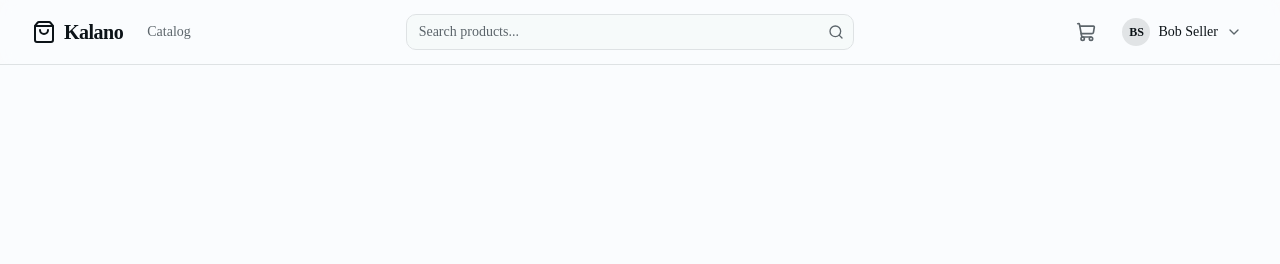
Test: Navbar › Authenticated State - Merchant › shows Seller Dashboard and Catalog links when menu is opened
Click the button "BS Bob Seller" at (1182, 32), box [1116, 12, 1248, 52]
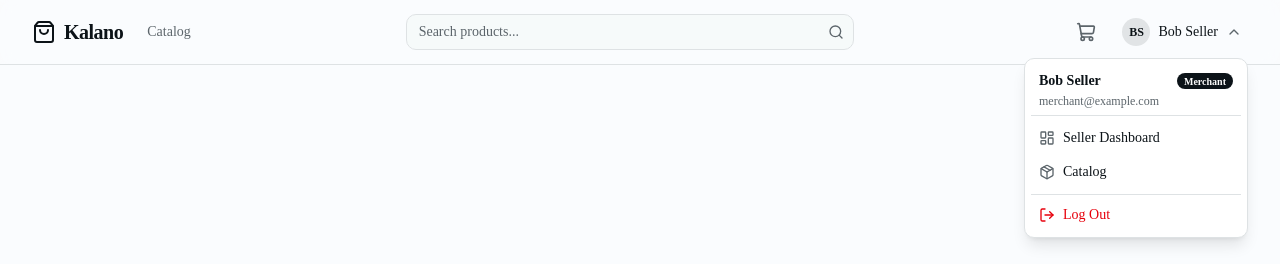
Expected: the menu is shown, [1024, 58, 1248, 238]
Expected: the text "merchant@example.com" is shown, [1039, 94, 1159, 108]
Expected: the text "Merchant" is shown, [1177, 73, 1233, 89]
